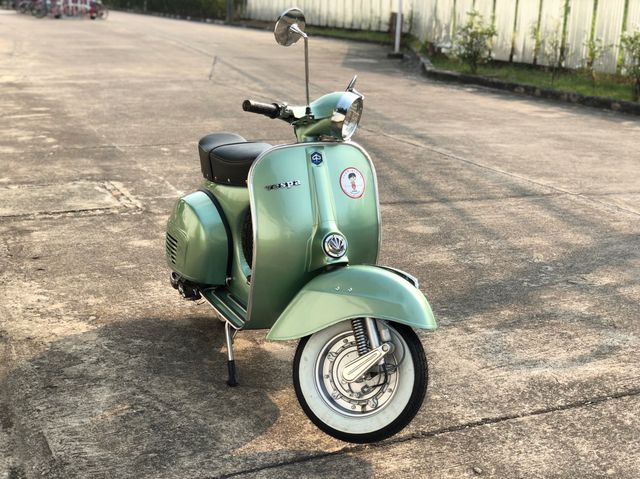motorcycle: (167, 91, 429, 445)
